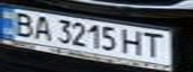1: (84, 21, 103, 51)
2: (69, 19, 87, 47)
3: (51, 17, 72, 45)
5: (100, 24, 121, 53)
A: (30, 13, 54, 42)
B: (6, 10, 39, 37)
H: (118, 27, 148, 56)
T: (139, 30, 172, 60)
